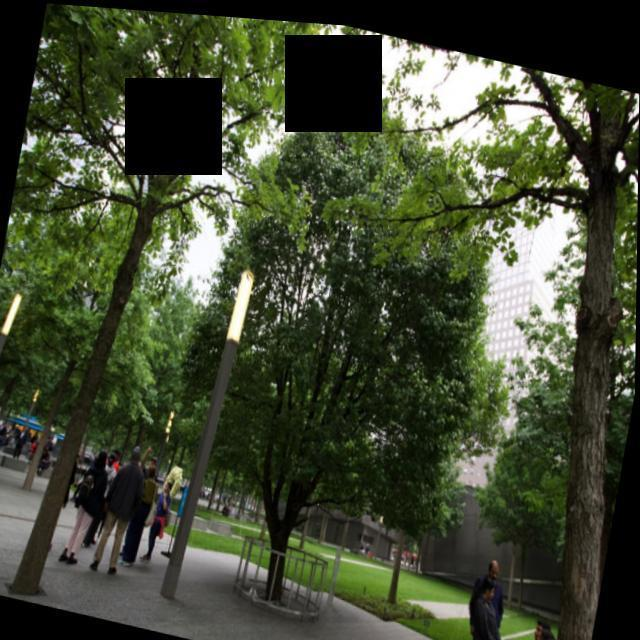tree: (146, 56, 537, 640), (0, 0, 329, 640), (412, 51, 640, 640), (0, 79, 226, 531), (524, 91, 640, 618), (460, 320, 636, 629), (342, 324, 504, 629), (0, 123, 122, 507), (88, 242, 251, 495)
